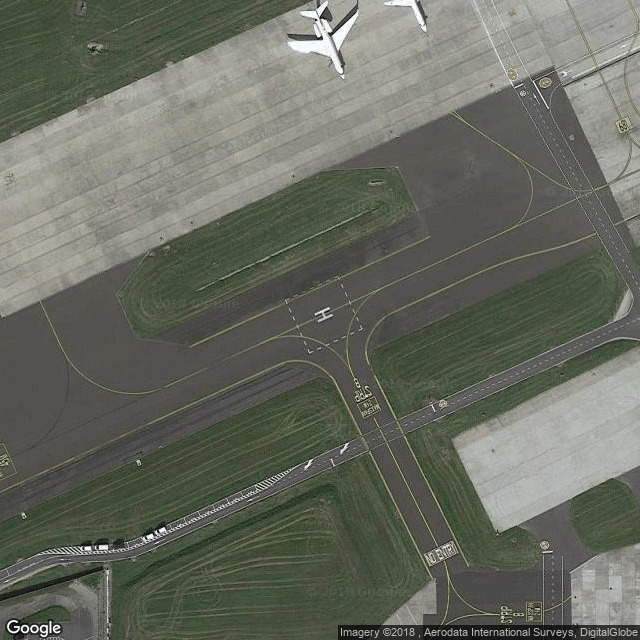heliport: (309, 303, 336, 324)
